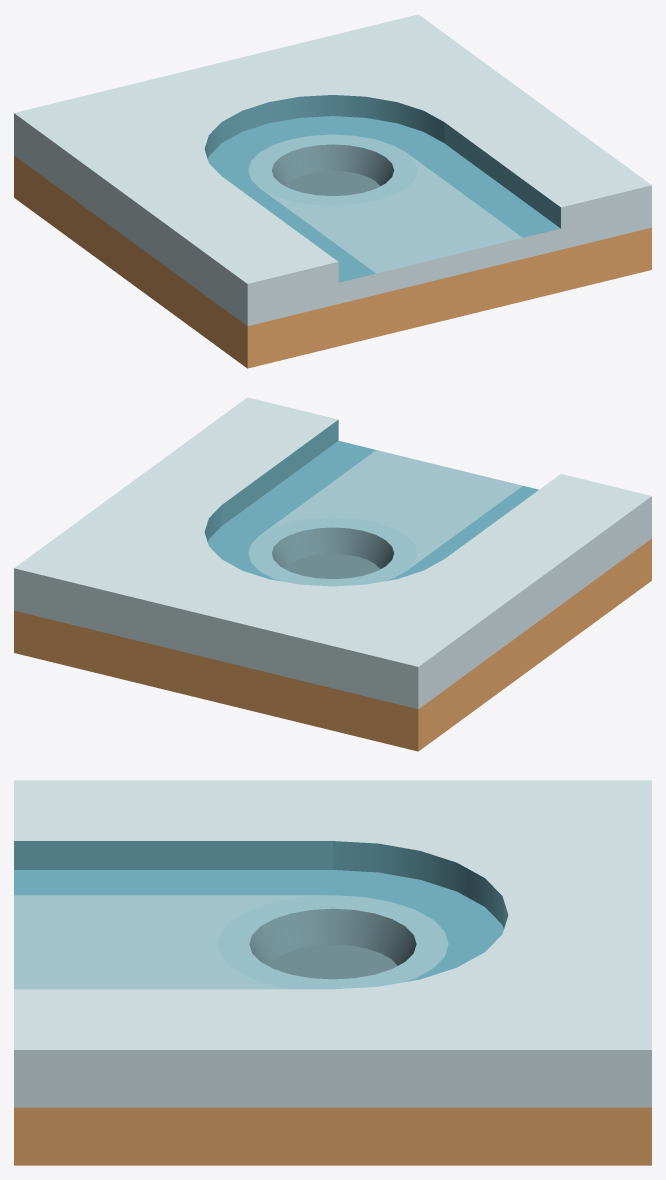
Rendered from snowTileEndRoundSpawn.fbx.
3 renders of one model, top to bottom at view 1: azimuth 30°, elevation 25°; view 2: azimuth 150°, elevation 25°; view 3: azimuth 270°, elevation 25°, orthographic. The views are drawn at different scales.
Parts seen in each view (by area): view 1: snow_tile_endRoundSpawn; view 2: snow_tile_endRoundSpawn; view 3: snow_tile_endRoundSpawn.
Boxes of the visible parts, x1=… form: snow_tile_endRoundSpawn: x1=14, y1=14, x2=651, y2=368; snow_tile_endRoundSpawn: x1=14, y1=397, x2=651, y2=751; snow_tile_endRoundSpawn: x1=14, y1=780, x2=651, y2=1165.
Size of the model in its own units: 39.37 by 7.87 by 39.37.
